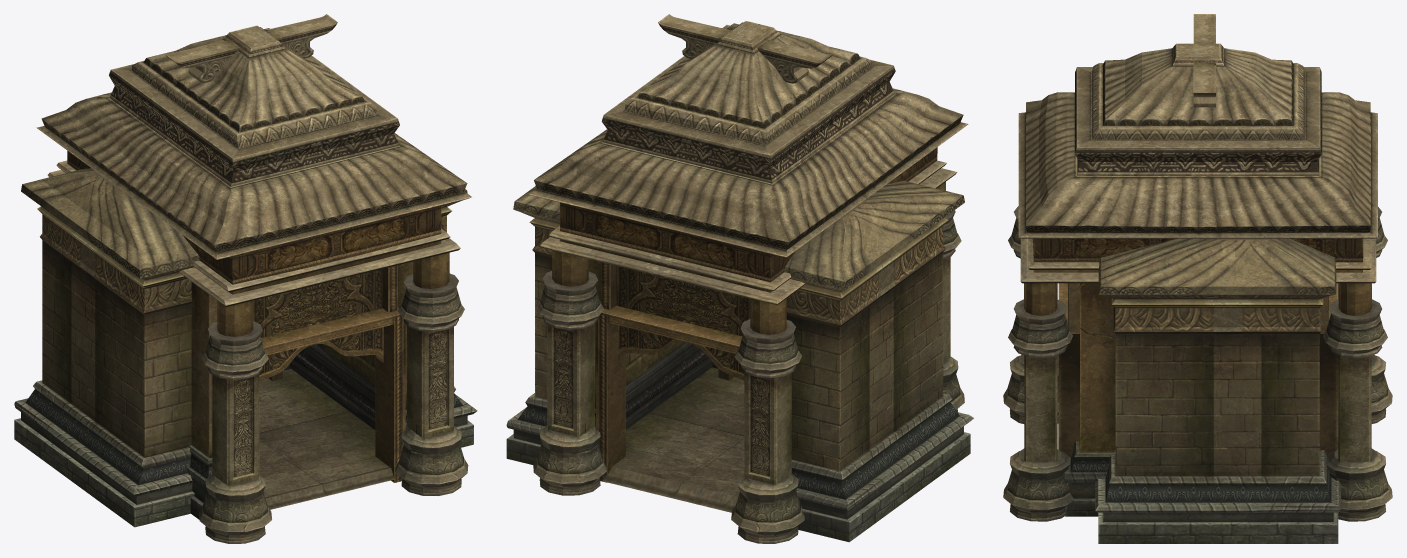
File: thunder_ruins_gate00.fbx
3 views of the same model, side by side, from view 1: azimuth 30°, elevation 25°; view 2: azimuth 150°, elevation 25°; view 3: azimuth 270°, elevation 25° (orthographic).
Parts seen in each view (by area): view 1: gate_1, gate_2; view 2: gate_1, gate_2; view 3: gate_1, gate_2.
Part boxes in pixels (x1=…): gate_1: x1=36, y1=14, x2=471, y2=543; gate_2: x1=14, y1=168, x2=477, y2=527; gate_1: x1=529, y1=14, x2=968, y2=543; gate_2: x1=506, y1=180, x2=973, y2=542; gate_1: x1=1003, y1=14, x2=1392, y2=521; gate_2: x1=1095, y1=238, x2=1340, y2=543.
Size of the model in its own units: 30.89 by 35.42 by 30.41.
